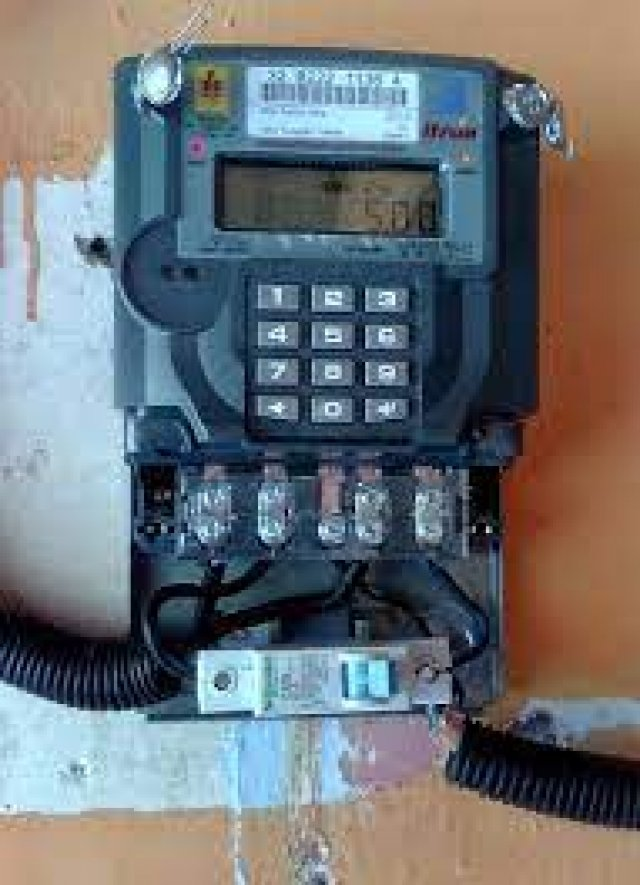box: (219, 156, 444, 235)
